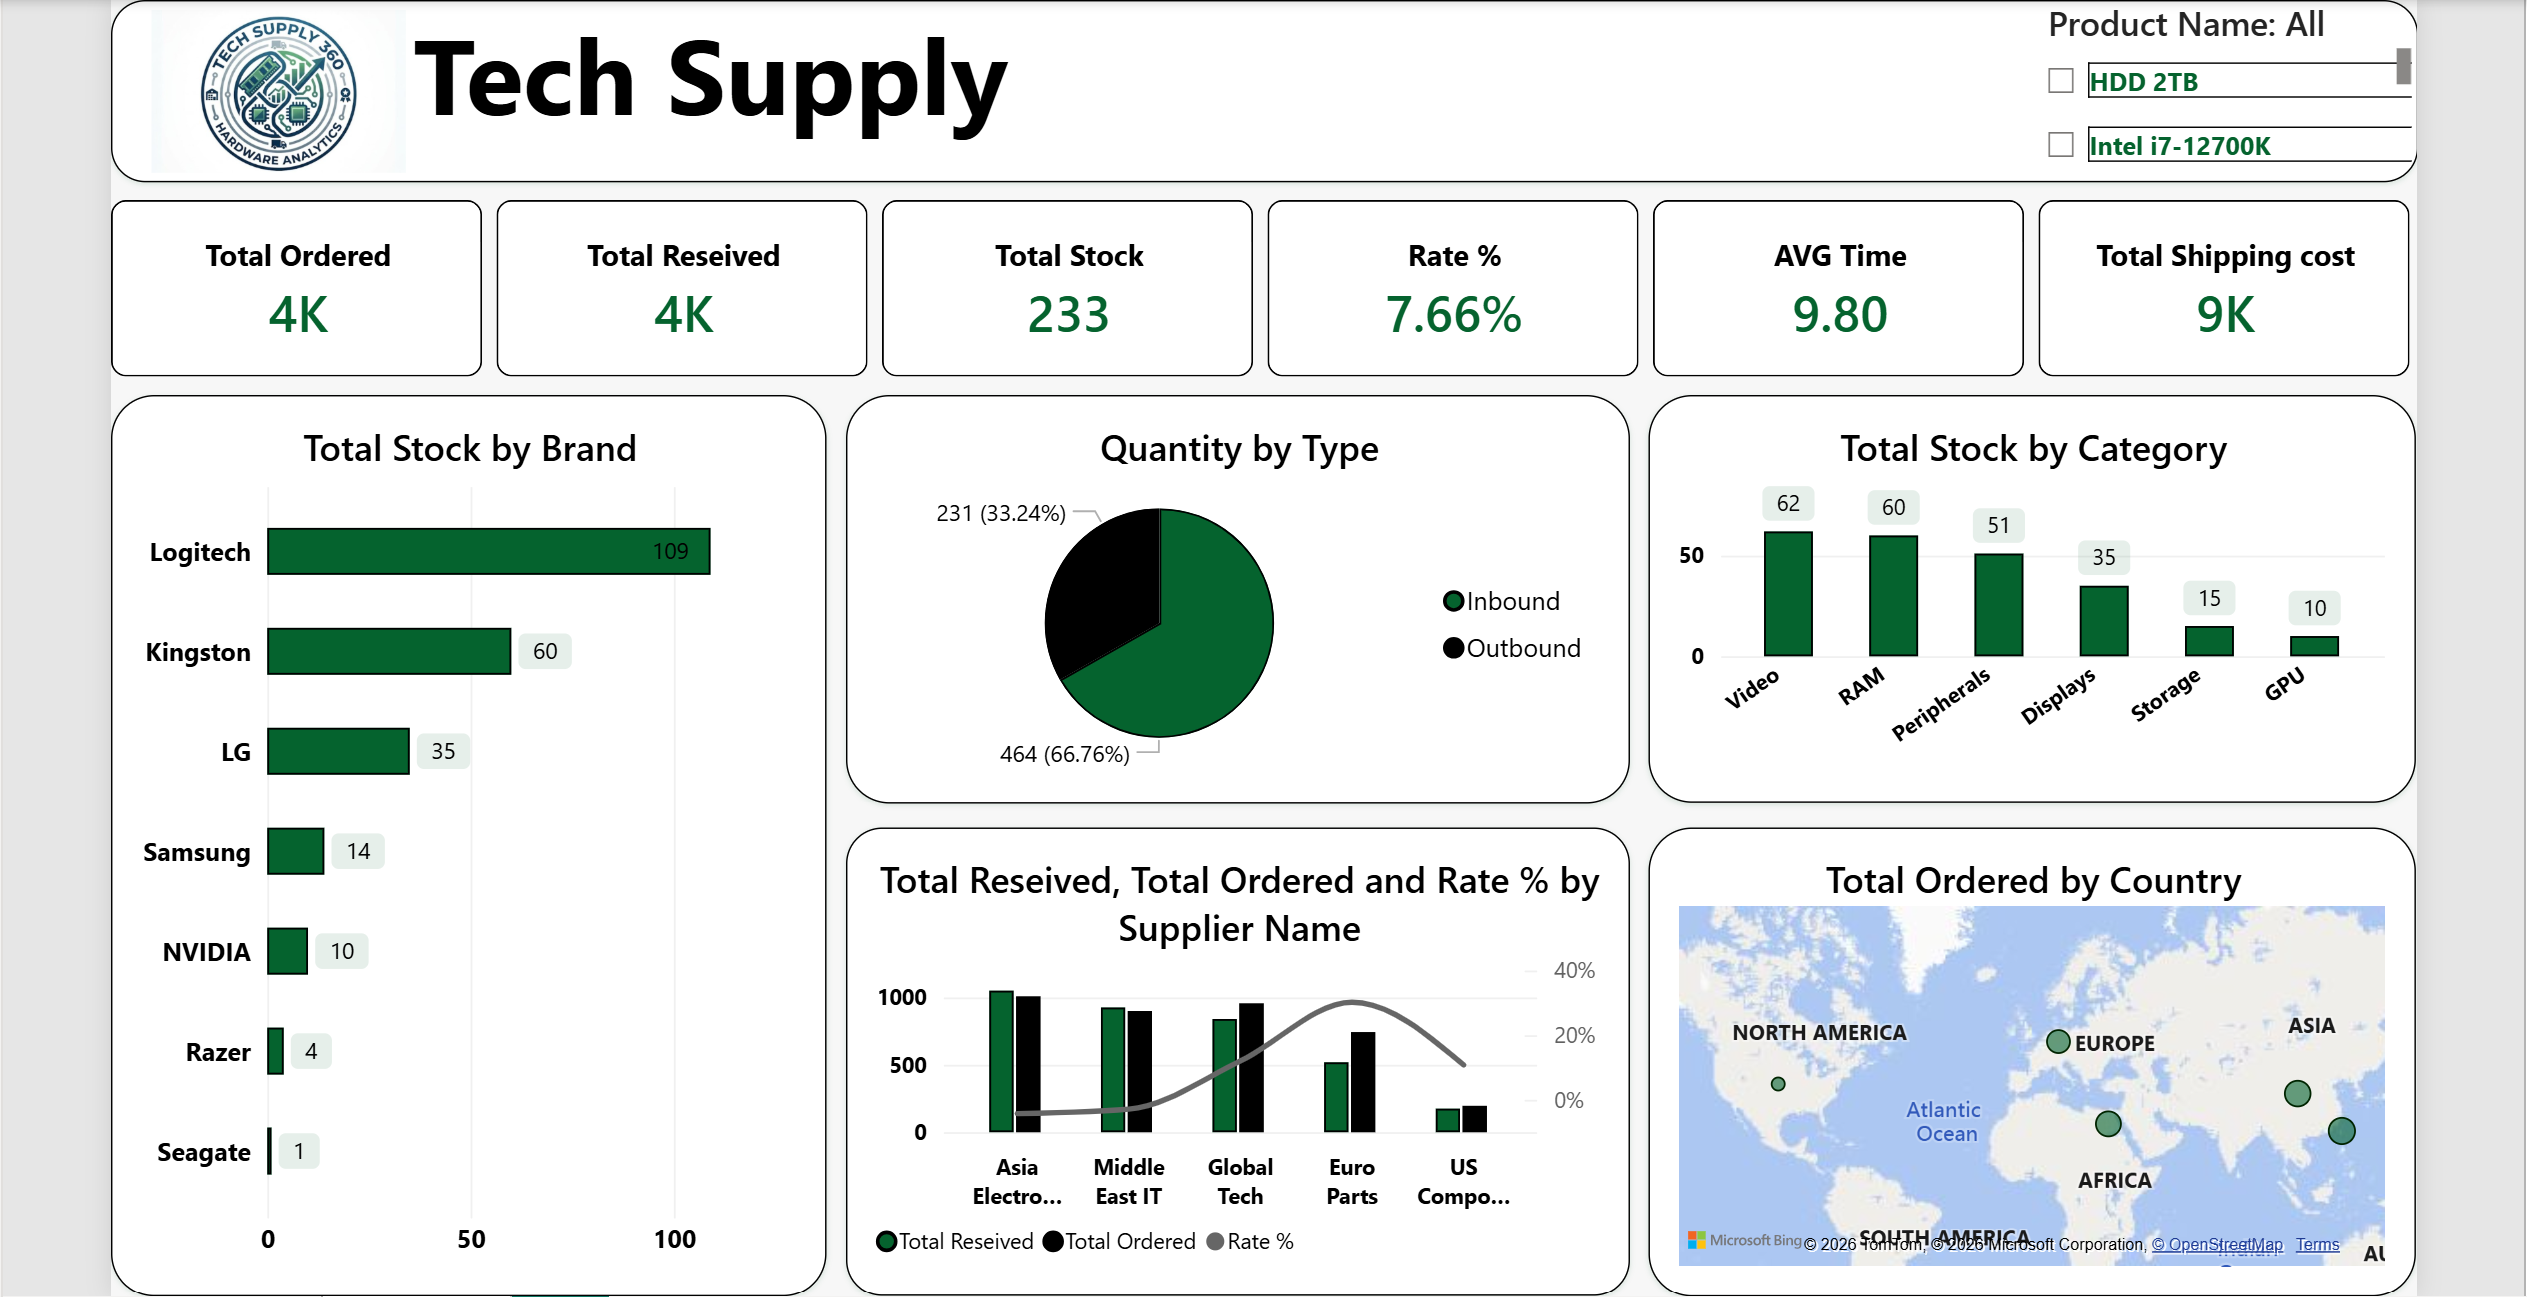

Layout of this report page (visuals, bound fields, positions):
{"tool":"powerbi","page":{"name":"Page 1","canvas":[1280,720],"ordinal":0},"visuals":[{"type":"cardVisual","fields":{"Data":["Measure.Total Ordered","Measure.Total Reseived","Measure.Total Stock","Measure.Rate %","Measure.AVG Time","Measure.Total Shipping cost"]},"box":[0,111,1281,98.5],"z":0},{"type":"lineClusteredColumnComboChart","title":"Total Reseived, Total Ordered and Rate % by Supplier Name","fields":{"Category":["Dim_Suppliers.Supplier_Name"],"Y":["Measure.Total Reseived","Measure.Total Ordered"],"Y2":["Measure.Rate %"]},"box":[358.1,459.4,464.9,260.9],"z":1000},{"type":"barChart","fields":{"Category":["Dim_Products.Brand"],"Y":["Measure.Total Stock"]},"box":[0,219.3,344.2,501],"z":2000},{"type":"map","fields":{"Category":["Dim_Suppliers.Country"],"Size":["Measure.Total Ordered"]},"box":[834.1,459.4,445.5,260.9],"z":3000},{"type":"pieChart","title":"Quantity by Type","fields":{"Category":["Fact_Inventory_Movement.Type"],"Y":["Sum(Fact_Inventory_Movement.Quantity)"]},"box":[358.1,219.3,464.9,226.2],"z":4000},{"type":"columnChart","fields":{"Category":["Dim_Products.Category"],"Y":["Measure.Total Stock"]},"box":[834.1,219.3,445.5,226.2],"z":5000},{"type":"textbox","box":[0,0,1281,101.3],"z":7000},{"type":"image","box":[9.7,5.6,166.5,90.2],"z":8000},{"type":"slicer","fields":{"Values":["Dim_Products.Product_Name"]},"box":[1067.2,0,209.6,90.2],"z":9000}]}

Visuals, with their boxes in screenshot pixels (x1, y1, x2, y2):
cardVisual - Measure.Total Ordered x Measure.Total Reseived: pyautogui.locateOnScreen(217, 190, 2411, 359)
"Total Reseived, Total Ordered and Rate % by Supplier Name" lineClusteredColumnComboChart: pyautogui.locateOnScreen(830, 787, 1627, 1234)
barChart - Dim_Products.Brand x Measure.Total Stock: pyautogui.locateOnScreen(217, 376, 807, 1234)
map - Dim_Suppliers.Country x Measure.Total Ordered: pyautogui.locateOnScreen(1646, 787, 2409, 1234)
"Quantity by Type" pieChart: pyautogui.locateOnScreen(830, 376, 1627, 763)
columnChart - Dim_Products.Category x Measure.Total Stock: pyautogui.locateOnScreen(1646, 376, 2409, 763)
textbox: pyautogui.locateOnScreen(217, 0, 2411, 173)
image: pyautogui.locateOnScreen(234, 10, 519, 164)
slicer - Dim_Products.Product_Name: pyautogui.locateOnScreen(2045, 0, 2404, 154)
